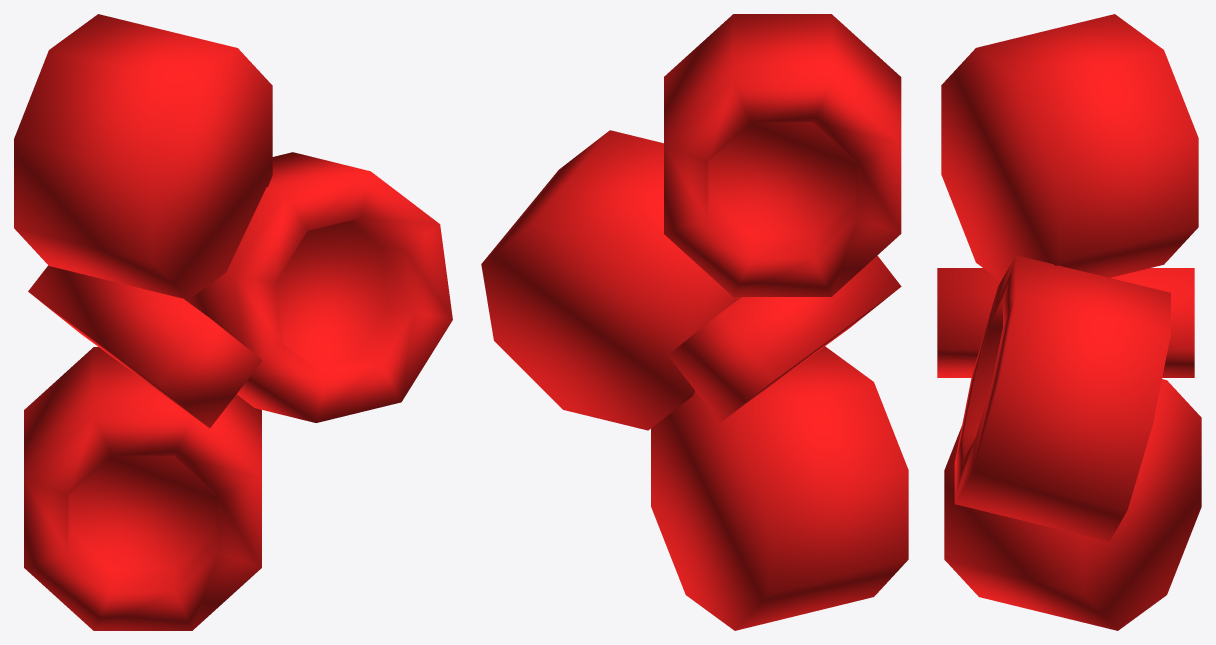
The model's file is Rubble04.FBX.
The picture shows the model from 3 angles, left to right: view 1: azimuth 30°, elevation 25°; view 2: azimuth 150°, elevation 25°; view 3: azimuth 270°, elevation 25°; orthographic projection.
Visible parts, largest first — view 1: 00_shild_01_013; view 2: 00_shild_01_013; view 3: 00_shild_01_013.
Boxes of the visible parts, bbox=[...] form: 00_shild_01_013: bbox=[14, 14, 452, 630]; 00_shild_01_013: bbox=[481, 14, 908, 630]; 00_shild_01_013: bbox=[937, 14, 1201, 630].
Bounding box in the file's own units: 21.56 × 29.41 × 12.9.
Materials: 1 (1 with a texture image).
